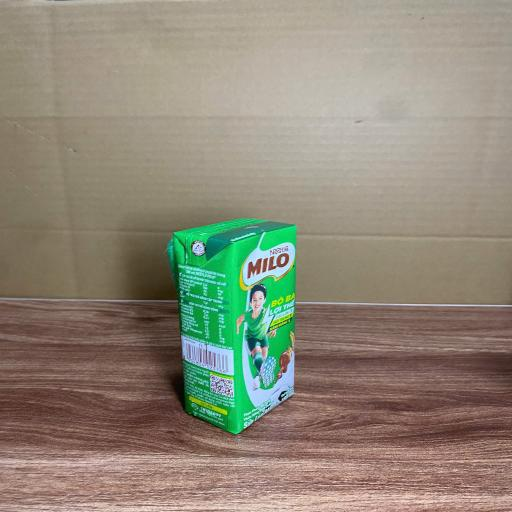milo: (175, 215, 295, 436)
